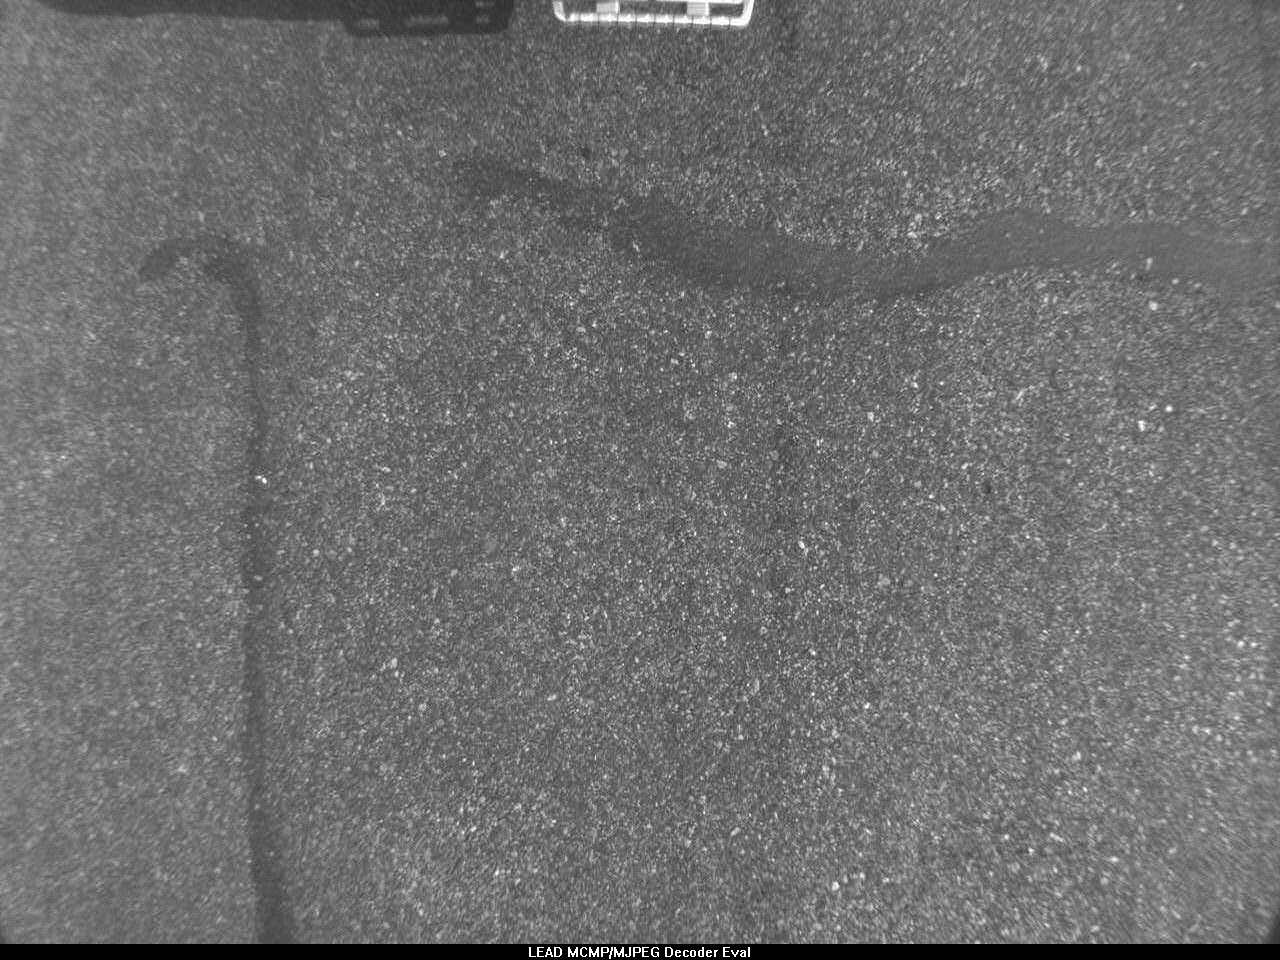sealed: (466, 156, 1270, 322)
